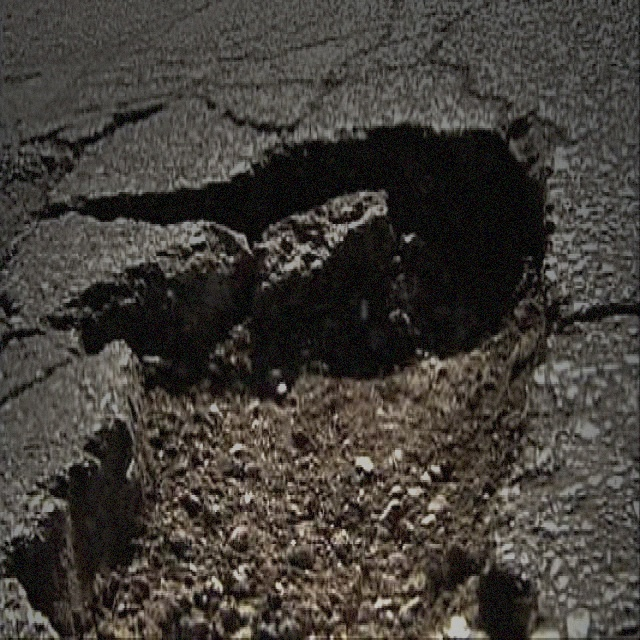pothole: (0, 104, 564, 637)
